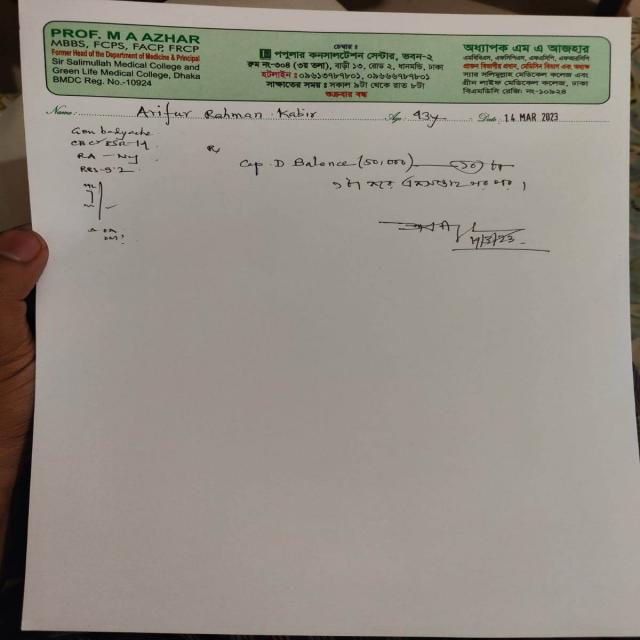D-Balance: (269, 149, 362, 174)
